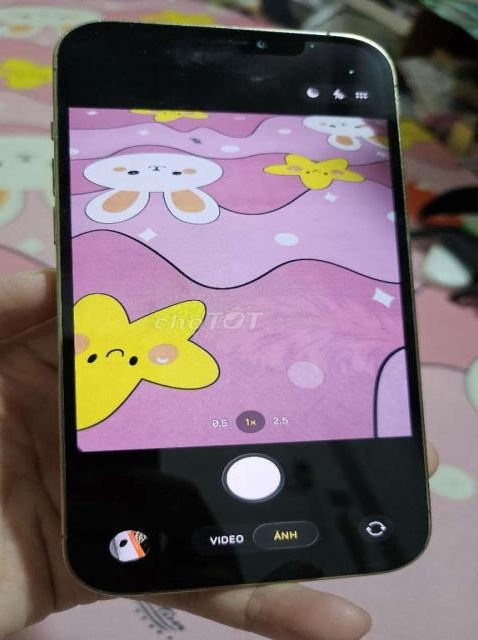scratch: (148, 27, 291, 99), (55, 18, 147, 57)
